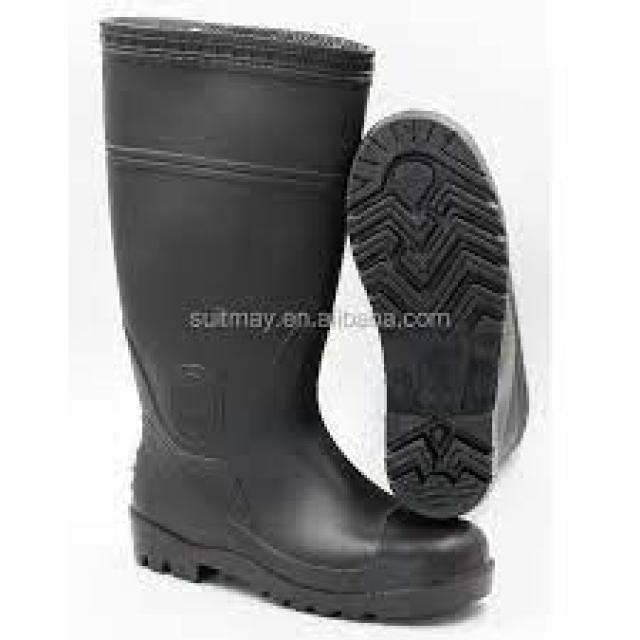shoes: (107, 18, 530, 619)
